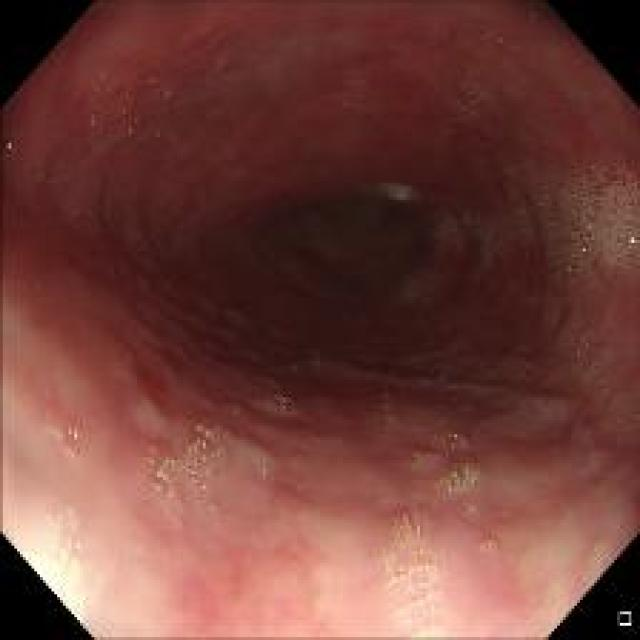bubbles: (438, 162, 635, 282), (371, 510, 454, 632), (138, 419, 230, 505), (541, 301, 605, 385), (264, 381, 308, 425), (436, 459, 478, 505), (48, 419, 82, 459), (428, 424, 474, 452), (81, 106, 108, 136), (126, 236, 152, 262), (409, 448, 438, 468), (338, 95, 364, 112), (480, 539, 499, 555), (159, 85, 176, 98), (121, 124, 136, 138), (466, 501, 479, 516), (146, 75, 160, 86), (202, 298, 215, 309)
color misalignment: (189, 421, 220, 488), (58, 422, 81, 455), (151, 465, 174, 496), (275, 396, 288, 409)
saturation: (14, 506, 90, 619), (386, 576, 456, 635)
specularity: (448, 466, 474, 488), (582, 224, 592, 254), (66, 426, 79, 438), (626, 234, 635, 244), (156, 471, 165, 480)
